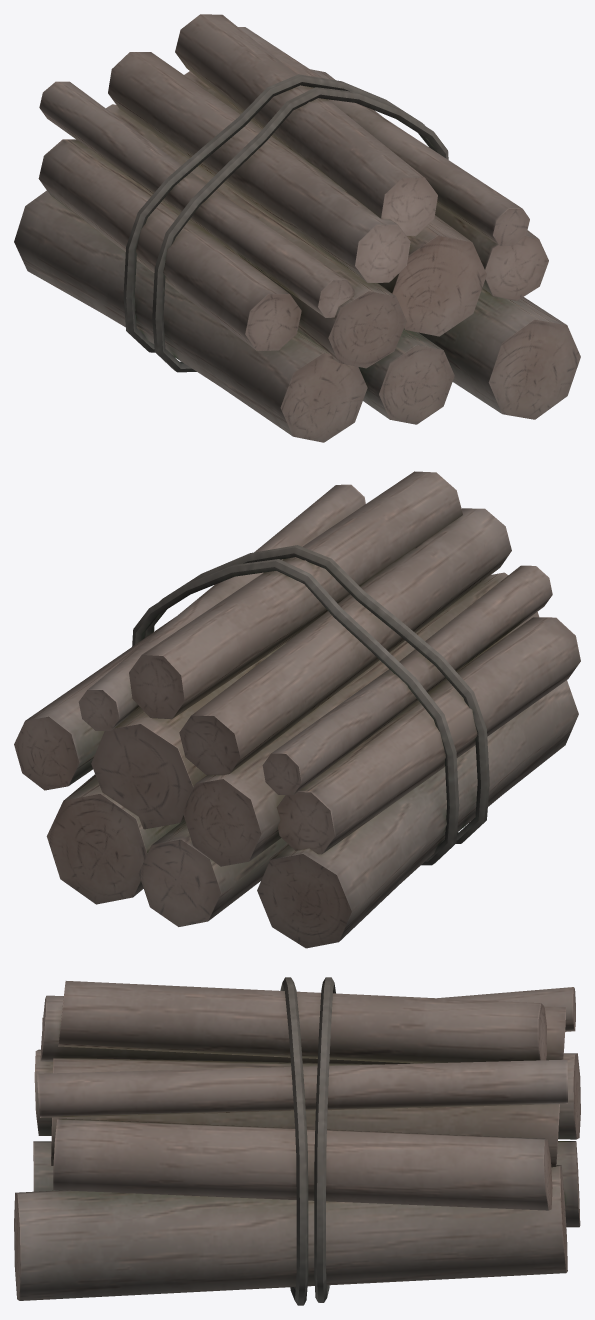
3 views of the same model, one above another, from view 1: azimuth 30°, elevation 25°; view 2: azimuth 150°, elevation 25°; view 3: azimuth 270°, elevation 25° (orthographic). The views are drawn at different scales.
Parts seen in each view (by area): view 1: submesh_0; view 2: submesh_0; view 3: submesh_0.
Part boxes in pixels (bbox=[...]): submesh_0: bbox=[14, 14, 580, 442]; submesh_0: bbox=[14, 471, 580, 948]; submesh_0: bbox=[14, 977, 580, 1305].
Size of the model in its own units: 0.4349 by 0.3445 by 0.6451.
Materials: 1 (1 with a texture image).
